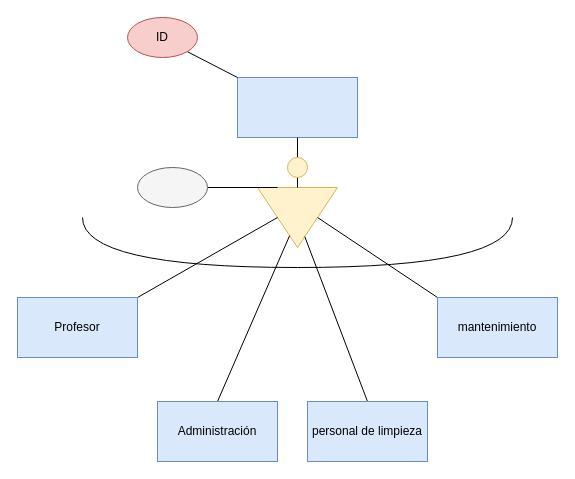
The diagram is 575 pixels wide and 479 high, and some of its shapes have lost their labels. The shapes that lost their labels are listed below. From the top down, each one's centre as x and y in pixels, then its label:
At (297,107): "Empleados".
At (172,187): "Tipo".
